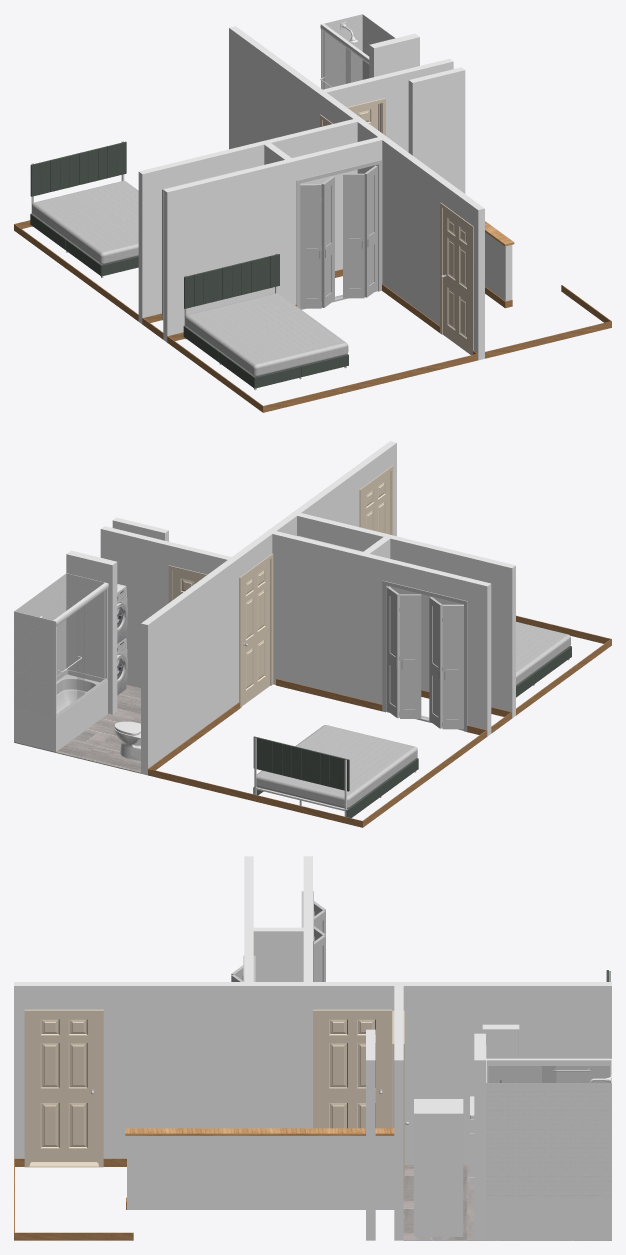
The model's file is interiorFF.glb.
The picture shows the model from 3 angles, top to bottom: view 1: azimuth 30°, elevation 25°; view 2: azimuth 150°, elevation 25°; view 3: azimuth 270°, elevation 25°; orthographic projection. The views are drawn at different scales.
Parts seen in each view (by area): view 1: FF_interiorwall, grey_door, bed_white, bed_white_2, FF- Base Board, Object_35, wood-door, bed_grey, bed_grey_2, bathroom sink_porcelein, Object_34, bathtub_glass (+1 smaller); view 2: FF_interiorwall, bathroom sink_porcelein, grey_door, wood-door, FF- Base Board, bed_white_2, bathtub_glass, bed_grey_2, Object_34, bed_white, bathtub_metal_2, bathroom_toilet (+3 smaller); view 3: FF_interiorwall, wood-door, bathroom sink_porcelein, Mesh.016, Mesh.008, Object_34, Object_35, stair-wood, bathtub_glass, FF- Base Board, grey_door, mirrorcab_mirror (+1 smaller).
Boxes of the visible parts, x1,y1,x2,y2 form: FF_interiorwall: (138, 26, 512, 360); grey_door: (162, 160, 381, 320); bed_white: (185, 293, 348, 376); bed_white_2: (31, 181, 138, 264); FF- Base Board: (14, 220, 611, 412); Object_35: (408, 67, 465, 193); wood-door: (320, 98, 473, 355); bed_grey: (183, 254, 348, 388); bed_grey_2: (30, 141, 138, 276); bathroom sink_porcelein: (324, 14, 395, 88); Object_34: (369, 33, 419, 78); bathtub_glass: (322, 30, 368, 89); FF_interiorwall: (100, 441, 515, 775); bathroom sink_porcelein: (14, 573, 140, 773); grey_door: (297, 536, 467, 731); wood-door: (168, 465, 393, 707); FF- Base Board: (148, 615, 611, 827); bed_white_2: (256, 725, 417, 808); bathtub_glass: (57, 590, 106, 714); bed_grey_2: (253, 736, 418, 817); Object_34: (66, 550, 117, 714); bed_white: (516, 621, 570, 685); bathtub_metal_2: (40, 582, 108, 717); bathroom_toilet: (114, 721, 140, 760); FF_interiorwall: (14, 856, 611, 1240); wood-door: (24, 1009, 404, 1199); bathroom sink_porcelein: (403, 1060, 611, 1240); Mesh.016: (414, 1099, 463, 1175); Mesh.008: (414, 1175, 463, 1236); Object_34: (474, 1033, 486, 1239); Object_35: (366, 1029, 375, 1240); stair-wood: (125, 1128, 394, 1135); bathtub_glass: (488, 1066, 609, 1082); FF- Base Board: (14, 1158, 133, 1240); grey_door: (231, 891, 325, 981); mirrorcab_mirror: (482, 1029, 517, 1073).
Size of the model in its own units: 5.89 by 2.43 by 7.29.
Materials: 37 (13 with a texture image).
